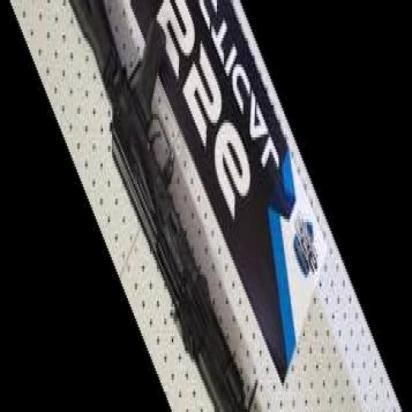Gun: (68, 0, 247, 412)
